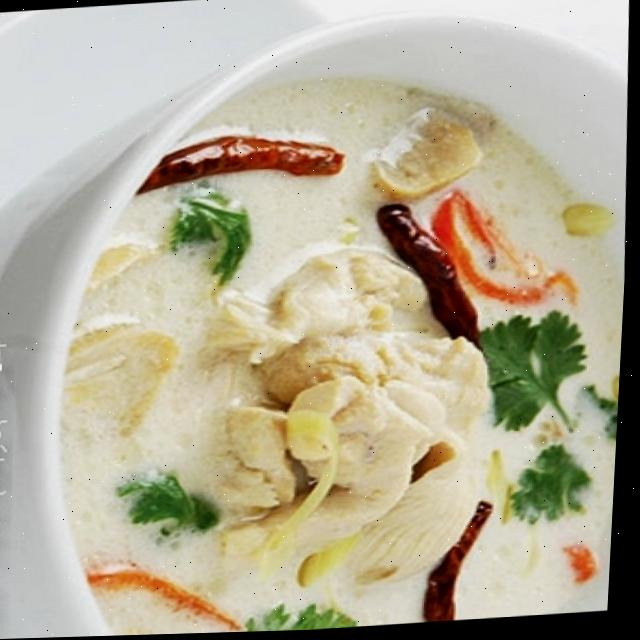汤锅炖物: (0, 28, 638, 640)
